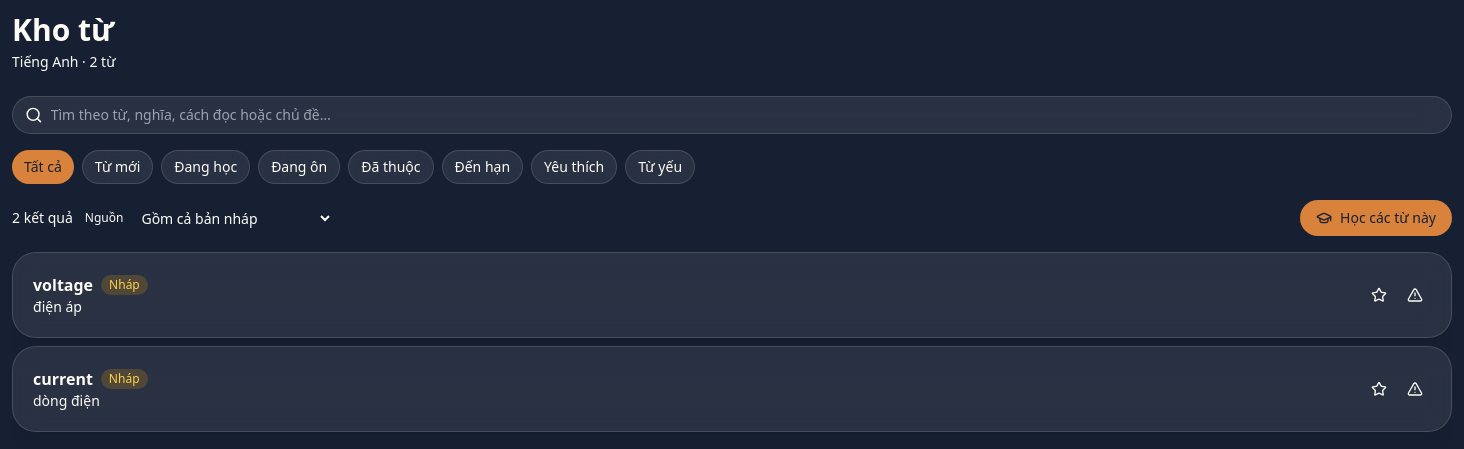
LibraryPage — kho từ (P2.2/P2.3) › tìm kiếm lọc danh sách
Expected: the text "voltage" is shown, [33,273,93,297]
Expected: the text "current" is shown, [33,367,93,391]
Type "điện áp" into the field named "Tìm kiếm trong kho từ".
click(745, 115); type("điện áp")  # box [51,105,1439,125]
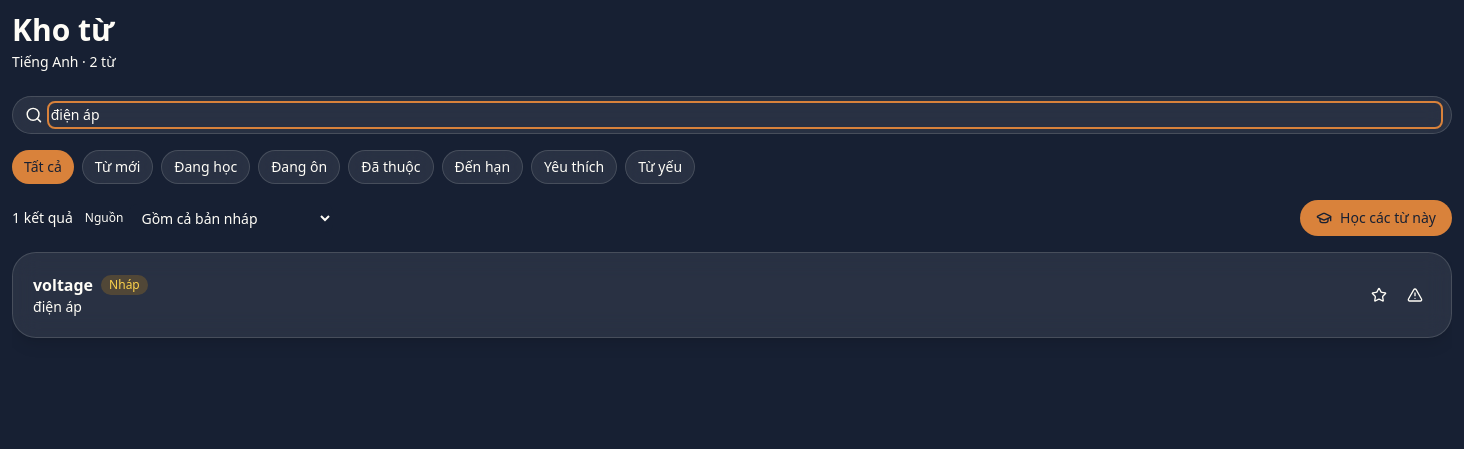
Expected: the text "voltage" is shown, [33,273,93,297]
Expected: the text "current" is gone
